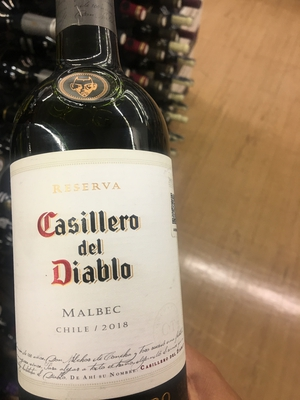casillero del diablo malbec: (9, 23, 200, 398)
